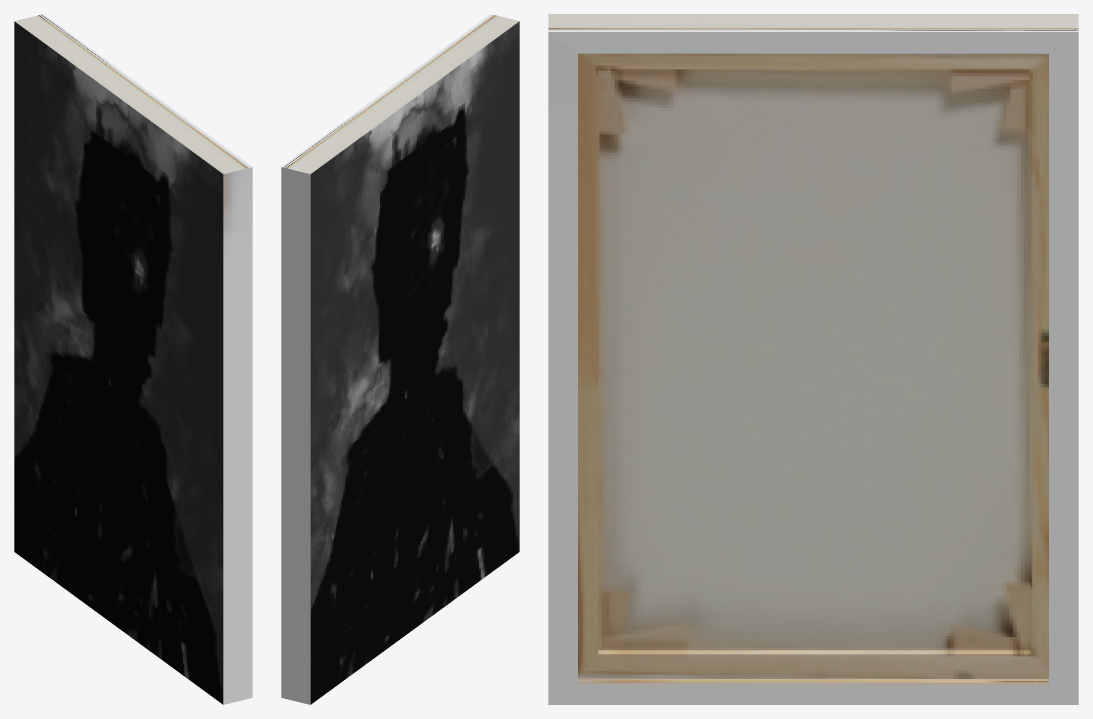
File: Painting_Artifact.fbx
3 renders of one model, left to right at view 1: azimuth 30°, elevation 25°; view 2: azimuth 150°, elevation 25°; view 3: azimuth 270°, elevation 25°, orthographic. The views are drawn at different scales.
Parts seen in each view (by area): view 1: Cube; view 2: Cube; view 3: Cube.
Part boxes in pixels (box(x1,y1,x2,y2)): Cube: box(14, 14, 252, 704); Cube: box(281, 14, 519, 704); Cube: box(548, 14, 1078, 704).
Bounding box in the file's own units: 16.16 × 280 × 200.
